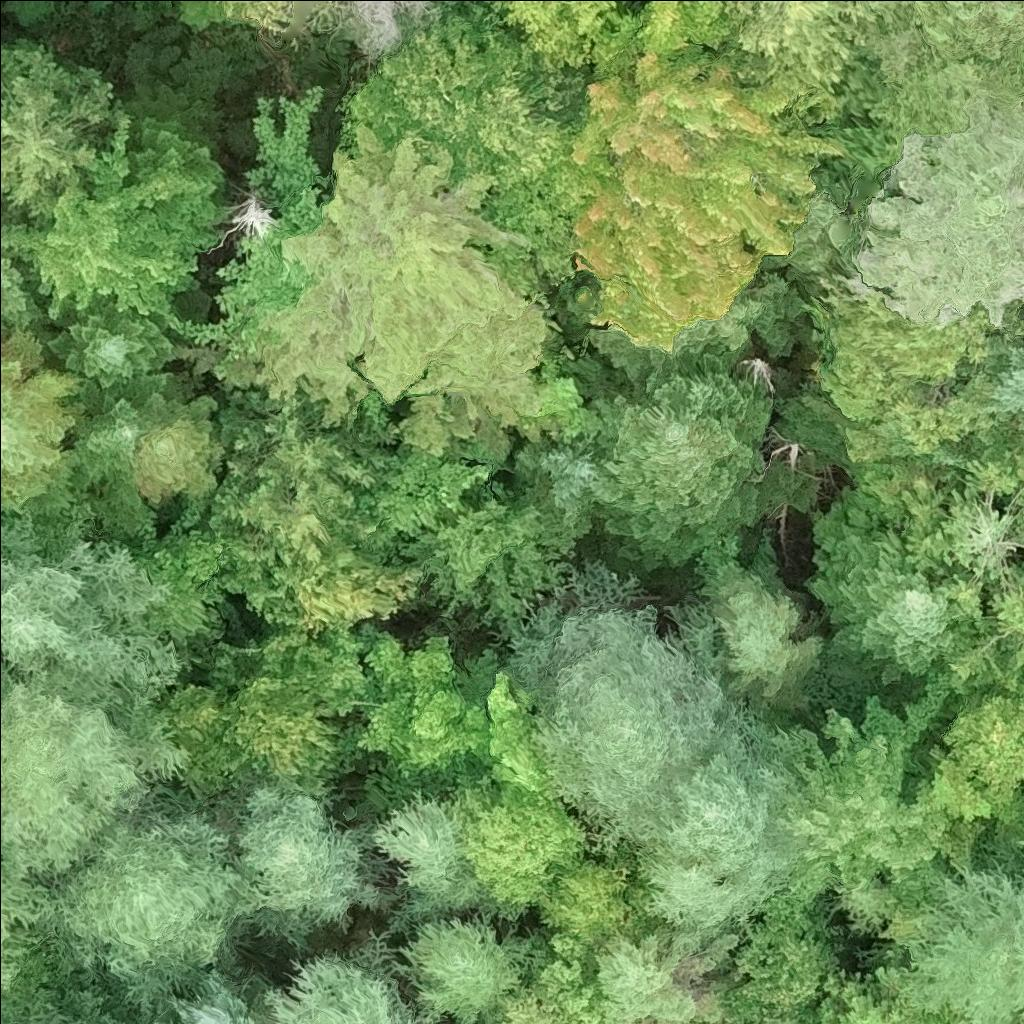crown: (574, 0, 845, 352), (349, 2, 598, 295), (517, 568, 752, 852), (541, 359, 775, 569), (0, 113, 219, 320), (0, 670, 185, 890), (42, 812, 241, 1009), (637, 727, 819, 916), (173, 628, 377, 795), (0, 524, 182, 711), (790, 702, 952, 893), (211, 396, 370, 561), (917, 453, 1023, 689), (231, 786, 382, 945), (67, 370, 231, 512), (0, 43, 122, 225), (159, 229, 311, 359), (357, 631, 491, 778), (809, 300, 982, 413), (816, 537, 952, 679), (230, 536, 426, 633), (397, 505, 560, 619), (907, 867, 1023, 1023), (875, 44, 1023, 163), (451, 783, 587, 910), (0, 329, 86, 512), (709, 568, 824, 700), (706, 0, 866, 94), (401, 913, 525, 1023), (926, 685, 1023, 824), (373, 796, 478, 917), (862, 0, 1023, 77), (244, 86, 327, 228), (732, 917, 840, 1023), (52, 297, 171, 386), (362, 452, 490, 534), (493, 0, 631, 76), (268, 958, 426, 1023), (480, 677, 561, 800), (595, 935, 697, 1023), (535, 862, 631, 945), (317, 0, 438, 63), (129, 116, 226, 188), (0, 865, 54, 990), (0, 247, 43, 347), (211, 0, 303, 36), (228, 198, 281, 243), (997, 342, 1023, 420), (1021, 846, 1023, 862)
